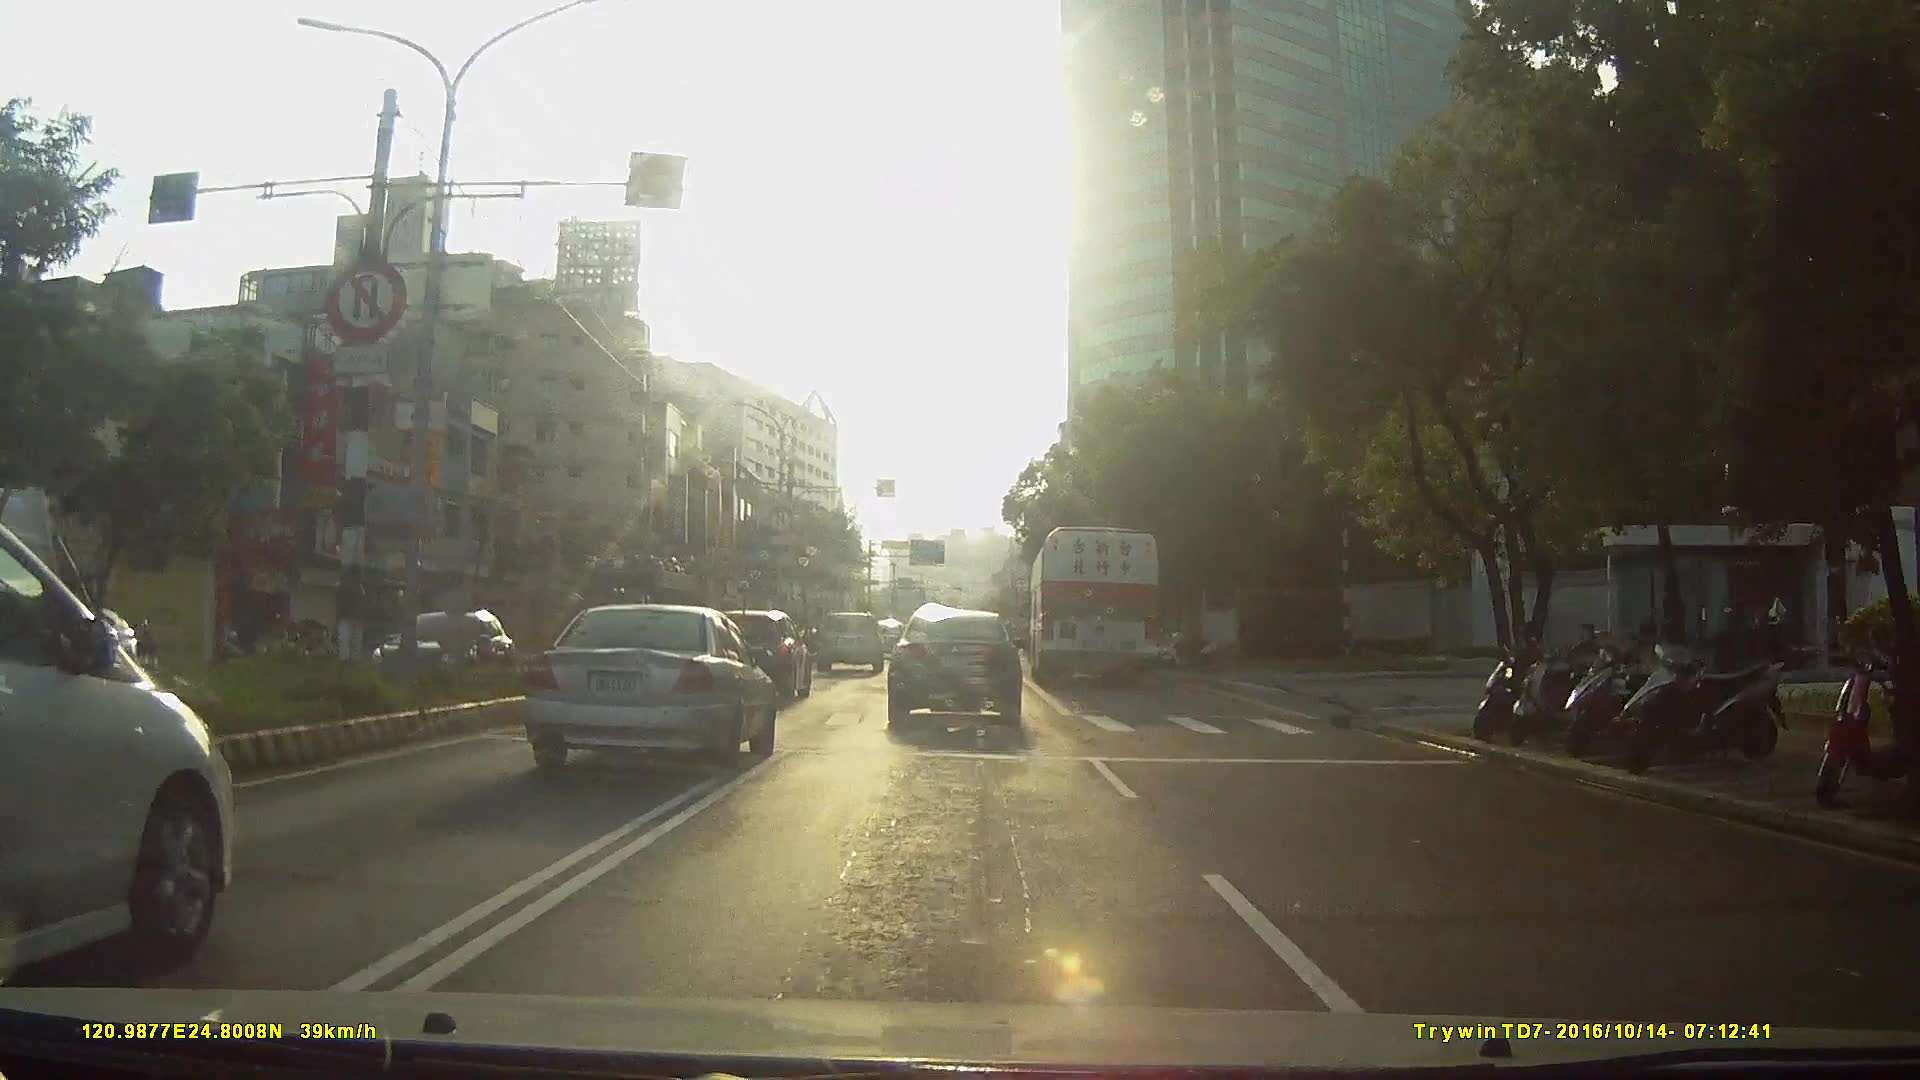vehicle: (251, 556, 684, 868), (1, 505, 257, 986), (512, 601, 774, 779), (1026, 521, 1164, 691), (887, 605, 1025, 715), (361, 605, 527, 690), (816, 608, 884, 675)
